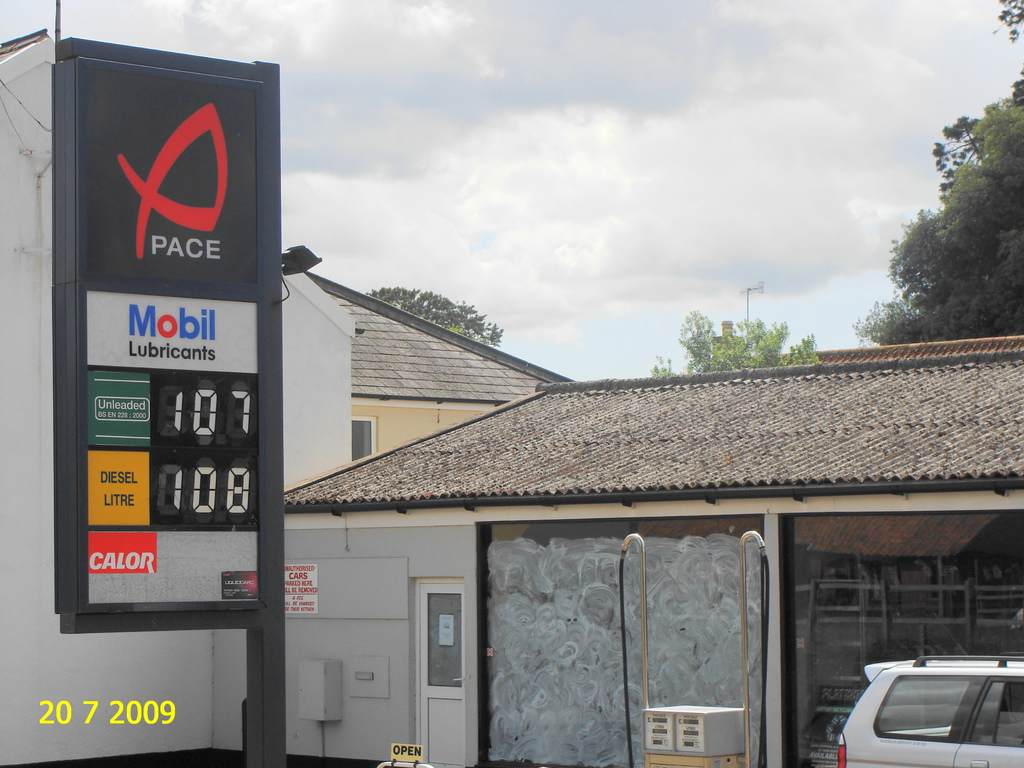Car: (836, 661, 1022, 768)
